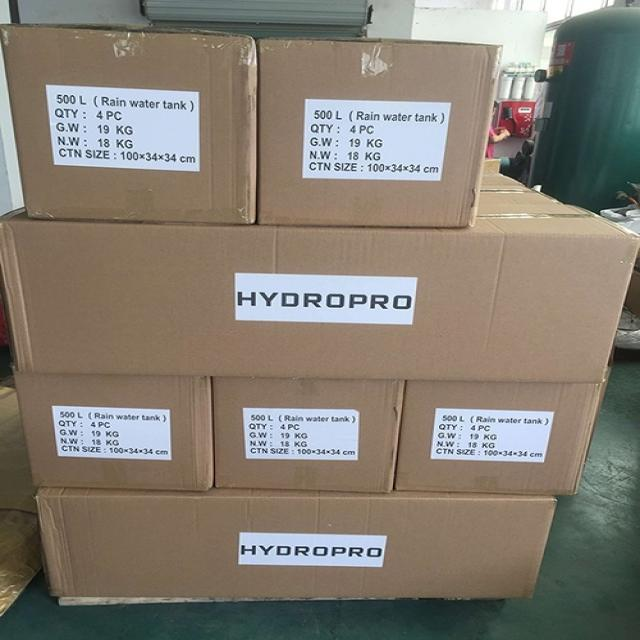box: (0, 172, 640, 384), (33, 487, 559, 599), (1, 22, 260, 225), (257, 37, 503, 228), (13, 364, 215, 491), (397, 381, 607, 496), (212, 377, 408, 493)
